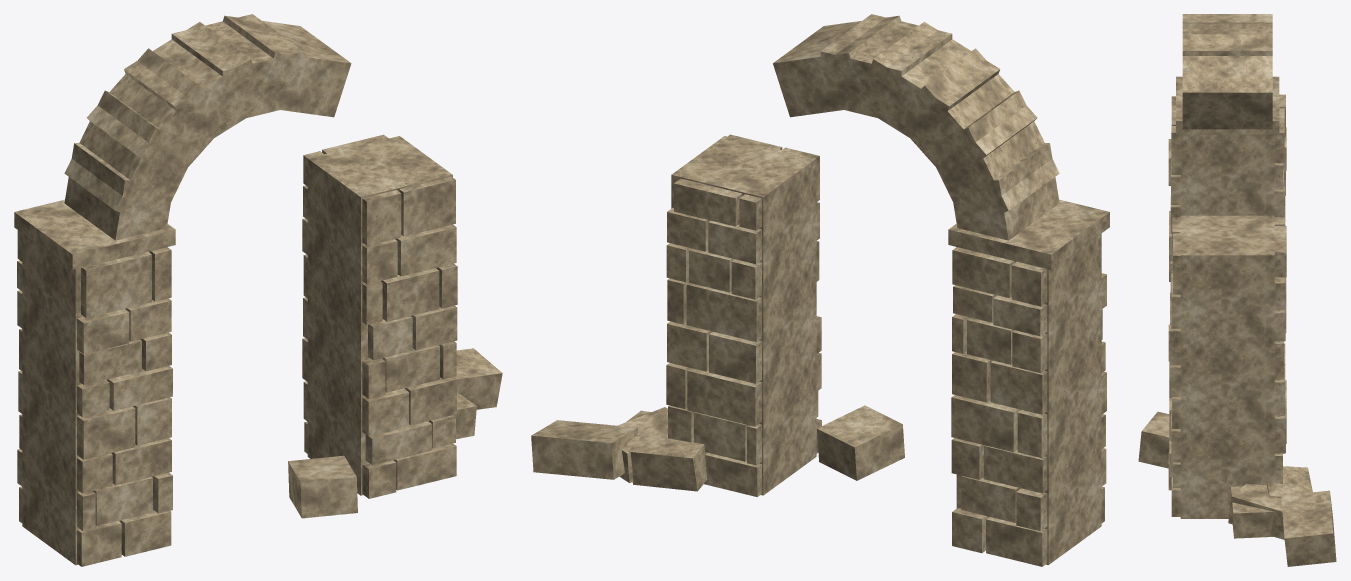
The model's file is arco_pietra_rovina.gltf.
3 views of the same model, side by side, from view 1: azimuth 30°, elevation 25°; view 2: azimuth 150°, elevation 25°; view 3: azimuth 270°, elevation 25° (orthographic). The views are drawn at different scales.
Parts seen in each view (by area): view 1: arco_pietra_rovina; view 2: arco_pietra_rovina; view 3: arco_pietra_rovina.
Boxes of the visible parts, x1,y1,x2,y2 form: arco_pietra_rovina: (14,14,502,566); arco_pietra_rovina: (531,14,1109,566); arco_pietra_rovina: (1138,14,1336,566).
Bounding box in the file's own units: 5.34 × 4.84 × 2.11.
1 material, 1 textured.
